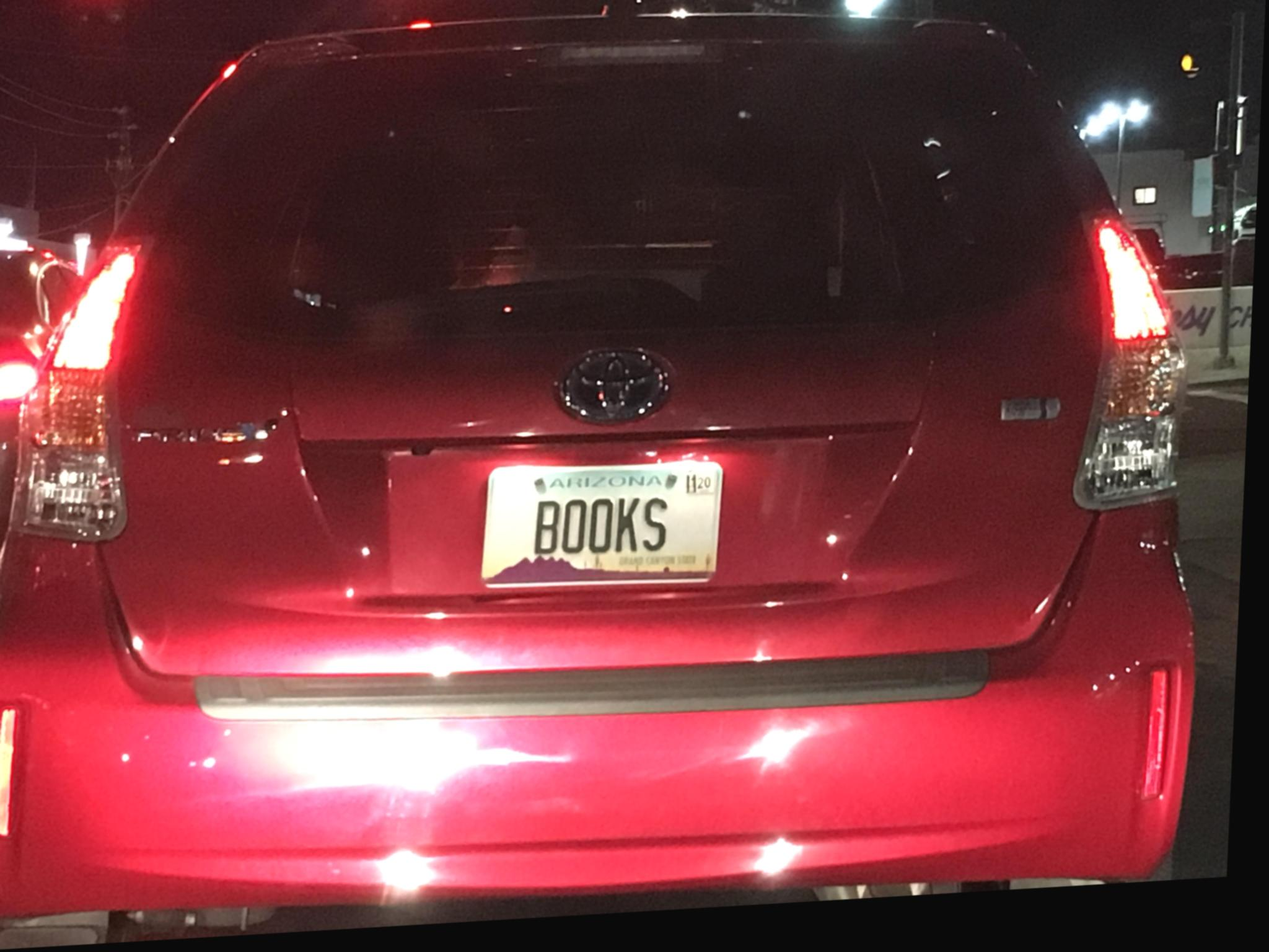License_Plate: (468, 438, 745, 611)
